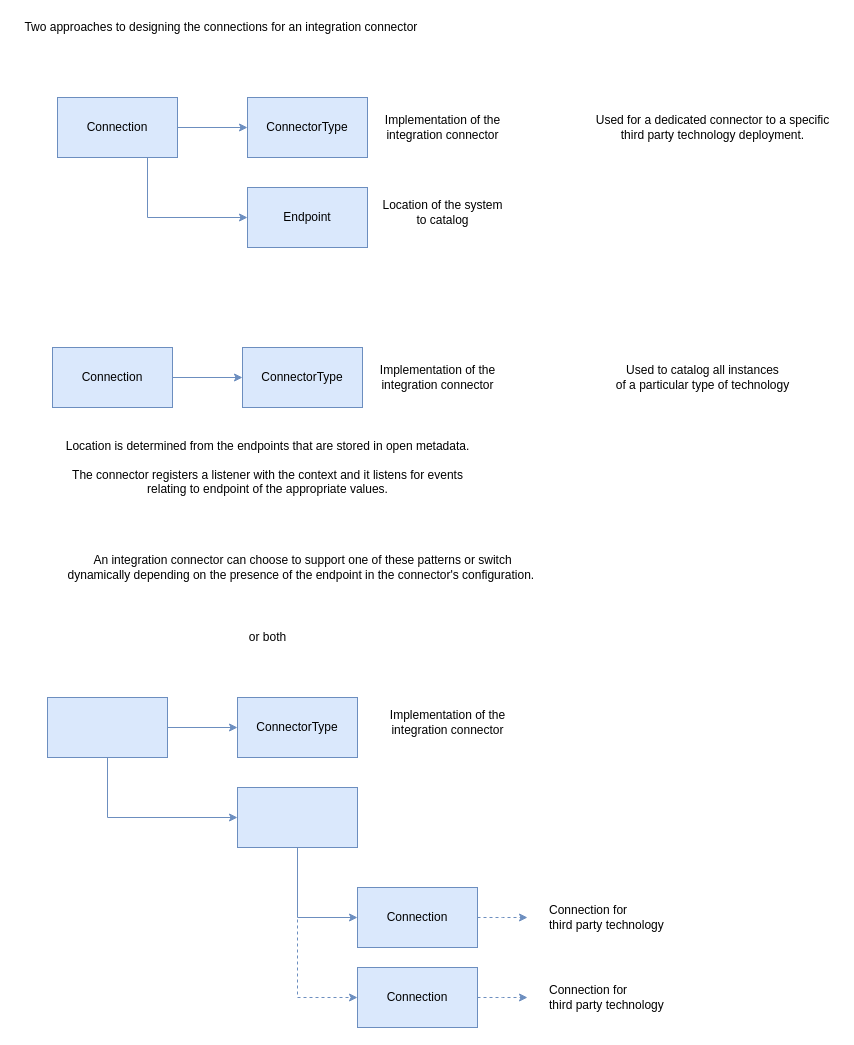
This 854x1045 diagram has some shape labels left out. The shapes that lost their labels are listed below. From the top down, each one's centre as x and y in pixels, then its label:
[107,727]: VirtualConnection
[297,817]: Embedded Connections
